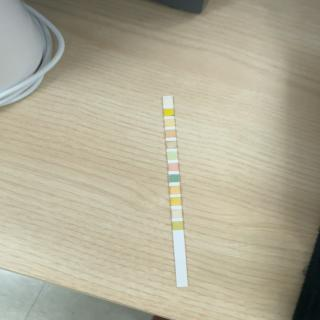mark: (172, 209, 182, 218), (166, 130, 176, 138), (164, 108, 174, 116), (167, 141, 177, 149), (170, 186, 180, 194), (173, 222, 183, 230), (169, 163, 178, 171), (163, 98, 173, 105), (168, 152, 178, 159), (169, 175, 179, 182), (171, 198, 181, 205), (165, 120, 174, 126)
